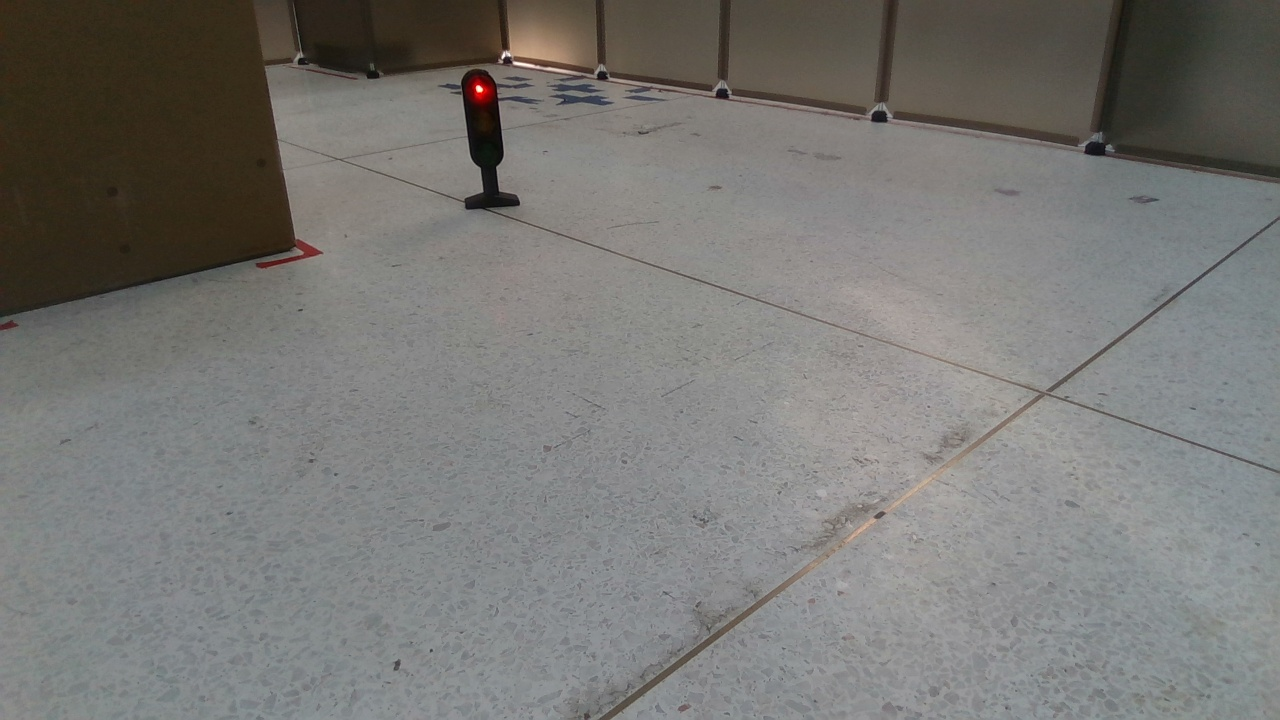Red traffic light: (455, 68, 528, 213)
